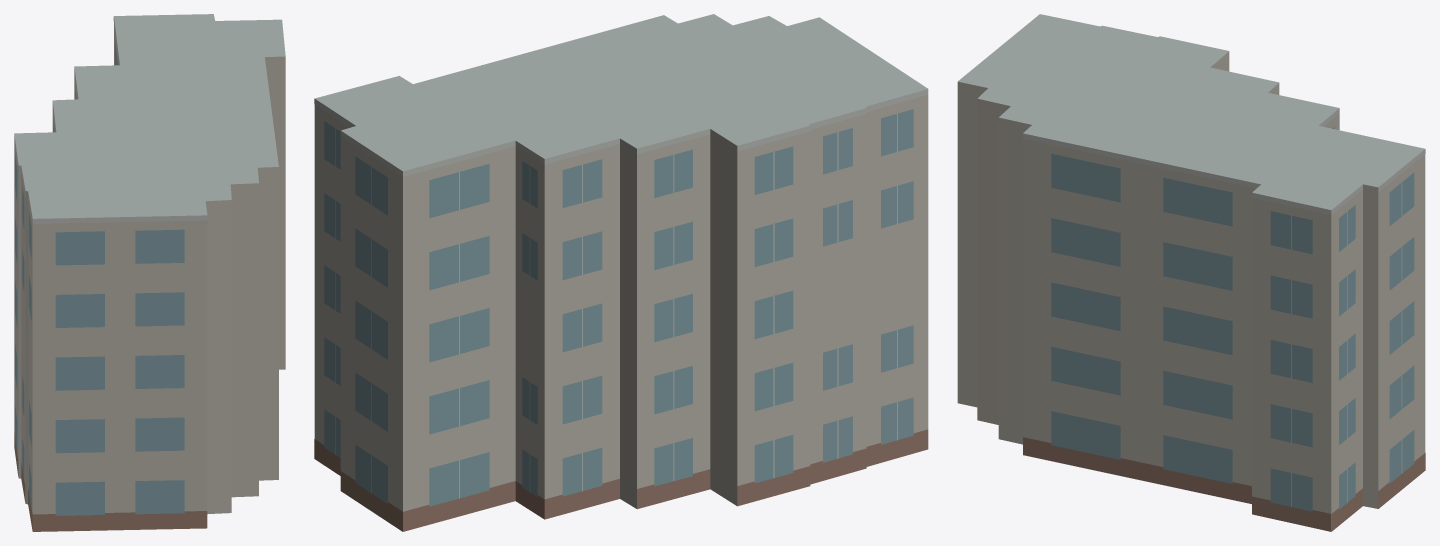
File: survey-upis-32597261.glb
The picture shows the model from 3 angles, left to right: view 1: azimuth 30°, elevation 25°; view 2: azimuth 150°, elevation 25°; view 3: azimuth 270°, elevation 25°; orthographic projection. The views are drawn at different scales.
Visible parts, largest first — view 1: survey-upis-32597261.tmp; view 2: survey-upis-32597261.tmp; view 3: survey-upis-32597261.tmp.
Part boxes in pixels (box(x1,y1,x2,y2)): survey-upis-32597261.tmp: box(14, 14, 285, 531); survey-upis-32597261.tmp: box(314, 14, 928, 531); survey-upis-32597261.tmp: box(957, 14, 1425, 531).
Size of the model in its own units: 20.15 by 15.4 by 20.31.
